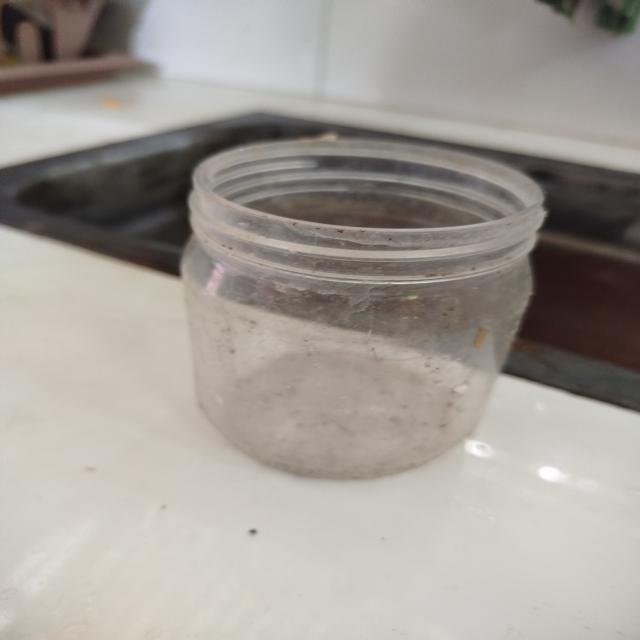plastic: (171, 116, 544, 497)
